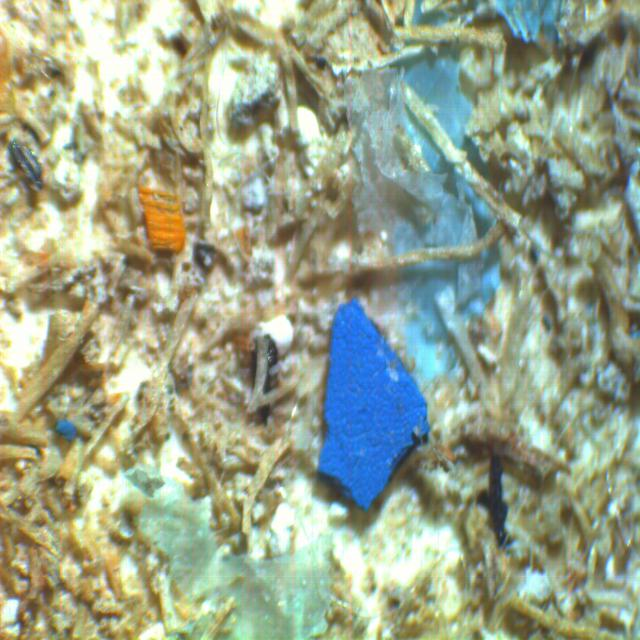microplastic: (341, 67, 504, 375), (121, 464, 335, 640), (317, 298, 428, 512), (135, 181, 190, 252), (52, 420, 81, 441)
